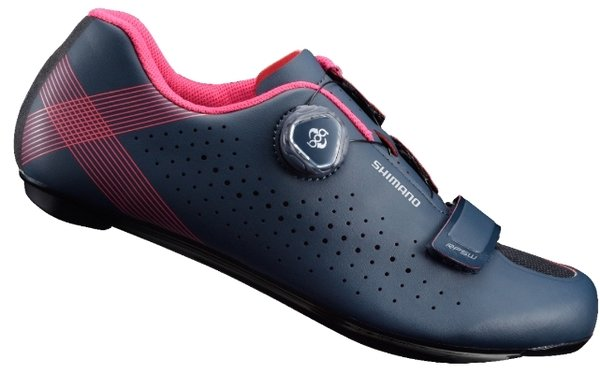shoe: (9, 4, 600, 369)
